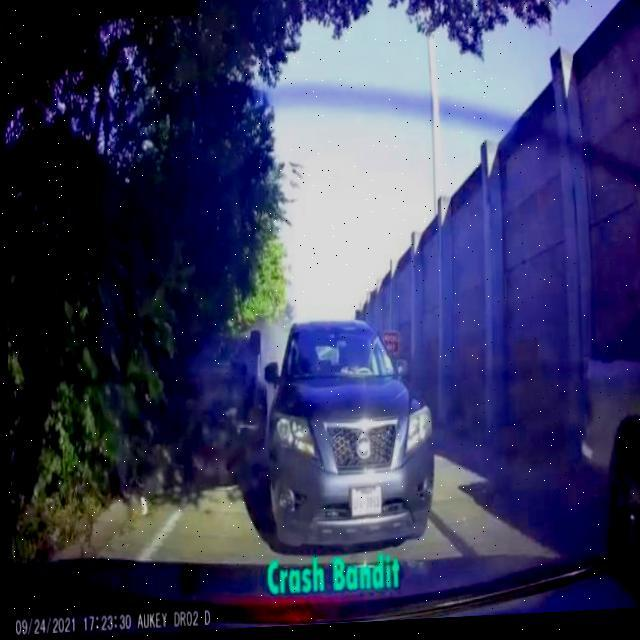multiple_accident: (205, 213, 467, 588)
